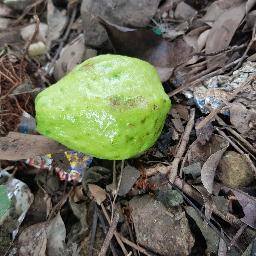Good_guava: (35, 46, 171, 167)
